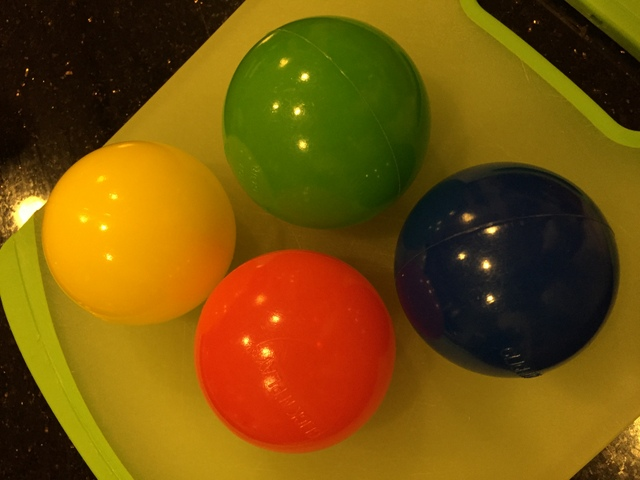Ball: (226, 16, 430, 233)
